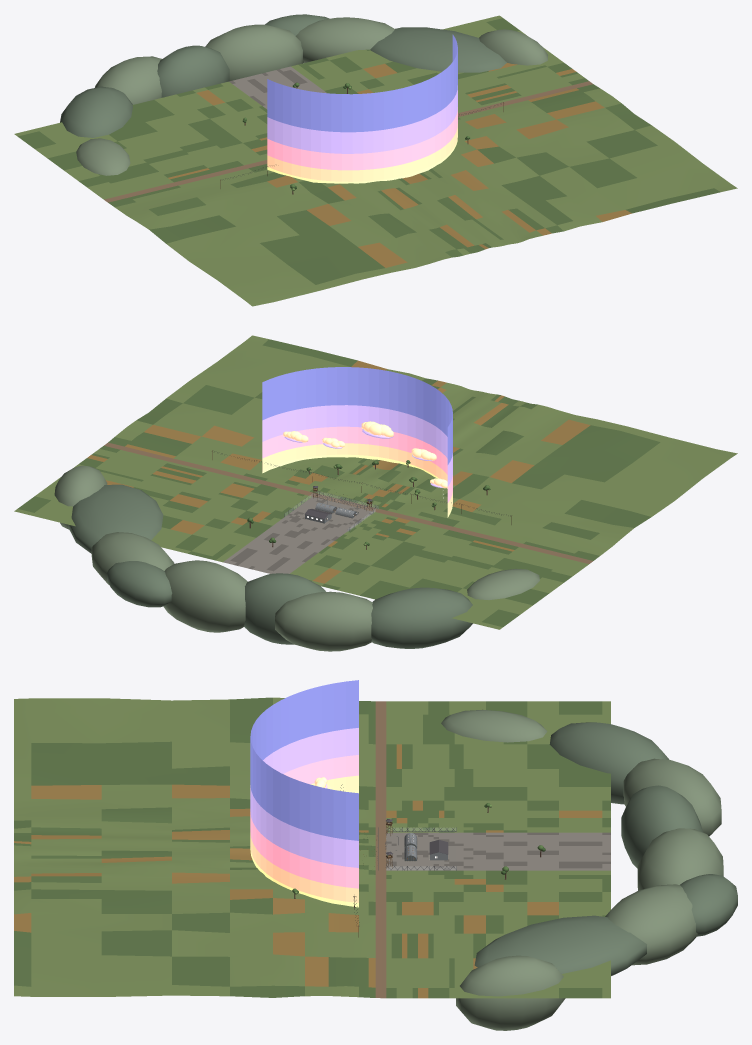
File: interlude_camp.glb
3 views of the same model, one above another, from view 1: azimuth 30°, elevation 25°; view 2: azimuth 150°, elevation 25°; view 3: azimuth 270°, elevation 25° (orthographic). The views are drawn at different scales.
Visible parts, largest first — view 1: yard_vc, land_vc, land_sky_dusk_4_fine, land_sky_dusk_3_fine, land_sky_dusk_2_fine, land_sky_dusk_1_fine, land_sky_dusk_0_fine; view 2: yard_vc, land_vc, land_sky_dusk_4_fine, land_sky_dusk_3_fine, land_sky_dusk_1_fine, land_sky_dusk_2_fine, land_sky_dusk_0_fine; view 3: yard_vc, land_vc, land_sky_dusk_4_fine, land_sky_dusk_3_fine, land_sky_dusk_2_fine, land_sky_dusk_1_fine.
Part boxes in pixels (box(x1,y1,x2,y2)): yard_vc: box(14, 15, 737, 306); land_vc: box(60, 14, 547, 190); land_sky_dusk_4_fine: box(267, 34, 457, 132); land_sky_dusk_3_fine: box(267, 85, 457, 153); land_sky_dusk_2_fine: box(267, 107, 457, 170); land_sky_dusk_1_fine: box(267, 124, 457, 181); land_sky_dusk_0_fine: box(267, 135, 457, 183); yard_vc: box(14, 335, 737, 629); land_vc: box(54, 450, 539, 651); land_sky_dusk_4_fine: box(262, 367, 452, 464); land_sky_dusk_3_fine: box(262, 405, 452, 487); land_sky_dusk_1_fine: box(262, 421, 452, 514); land_sky_dusk_2_fine: box(262, 426, 452, 502); land_sky_dusk_0_fine: box(262, 454, 452, 517); yard_vc: box(14, 697, 610, 998); land_vc: box(292, 709, 737, 1030); land_sky_dusk_4_fine: box(250, 680, 358, 840); land_sky_dusk_3_fine: box(250, 728, 358, 867); land_sky_dusk_2_fine: box(250, 755, 358, 888); land_sky_dusk_1_fine: box(250, 775, 358, 902).
Bounding box in the file's own units: 400 × 107 × 412.
